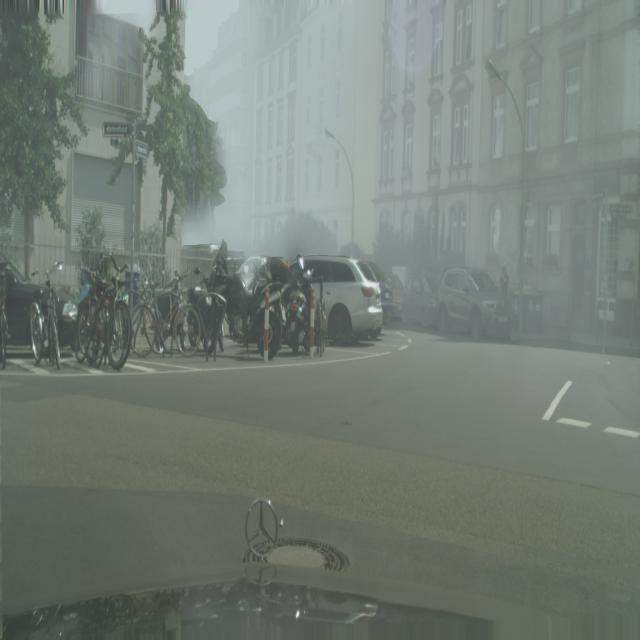bus: (500, 266, 509, 297)
motorcycle: (207, 242, 286, 362), (74, 256, 115, 367), (280, 255, 312, 356)
person: (300, 254, 383, 344), (437, 267, 514, 340), (0, 256, 44, 342), (356, 260, 396, 322), (401, 274, 439, 327), (387, 274, 405, 318)
truck: (131, 268, 200, 358), (30, 259, 63, 369), (105, 258, 133, 371), (0, 277, 10, 369)
